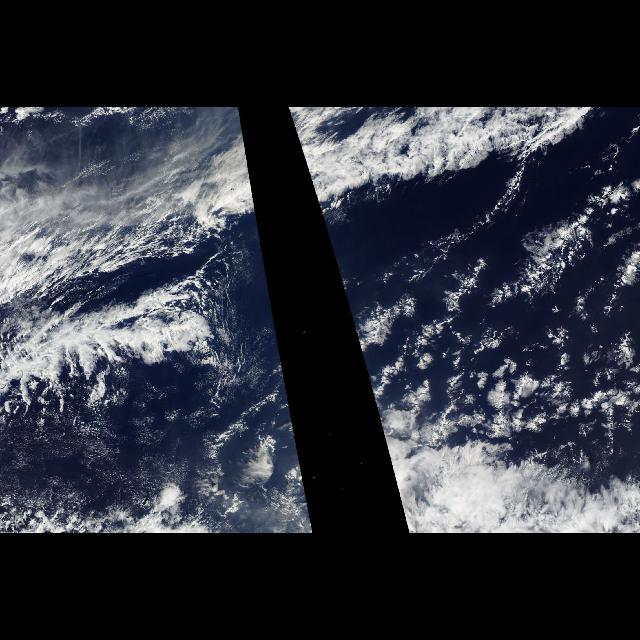Fish: (333, 180, 633, 418), (0, 174, 232, 412)
Flower: (380, 312, 638, 452)
Sugar: (0, 410, 186, 502)
